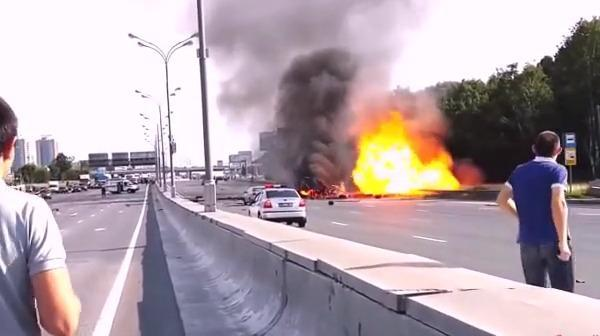fire: (349, 112, 464, 196), (300, 185, 330, 199)
